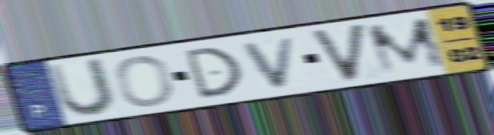D: (181, 45, 246, 102)
M: (363, 15, 451, 78)
O: (114, 54, 178, 108)
U: (44, 55, 120, 119)
V: (306, 21, 370, 85), (240, 33, 300, 91)
